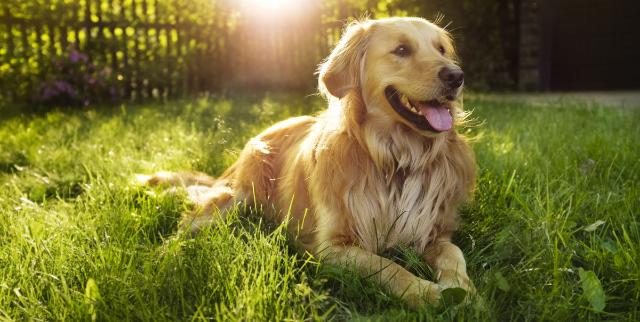dog: (184, 16, 520, 322)
